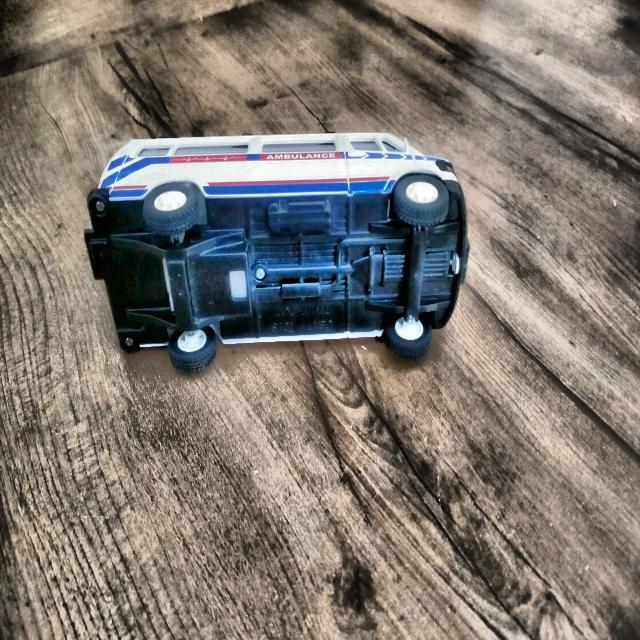Ambulance: (79, 124, 472, 395)
